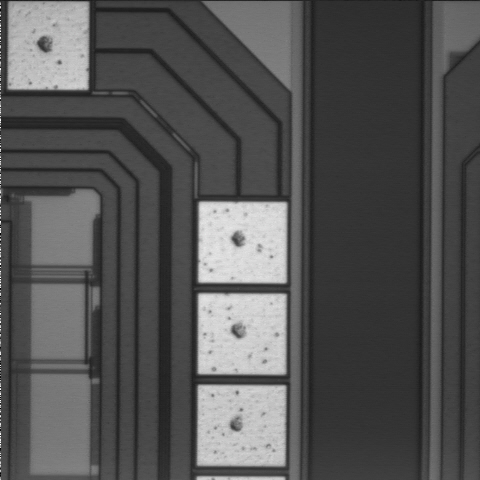pad: (199, 202, 287, 283), (198, 385, 285, 466), (198, 294, 286, 374), (9, 3, 88, 89)
